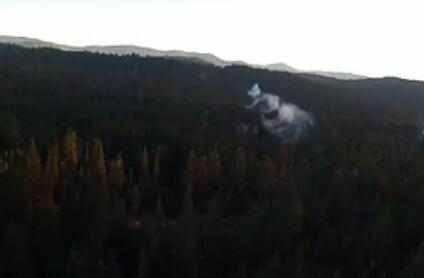yanwu: (240, 81, 321, 152)
